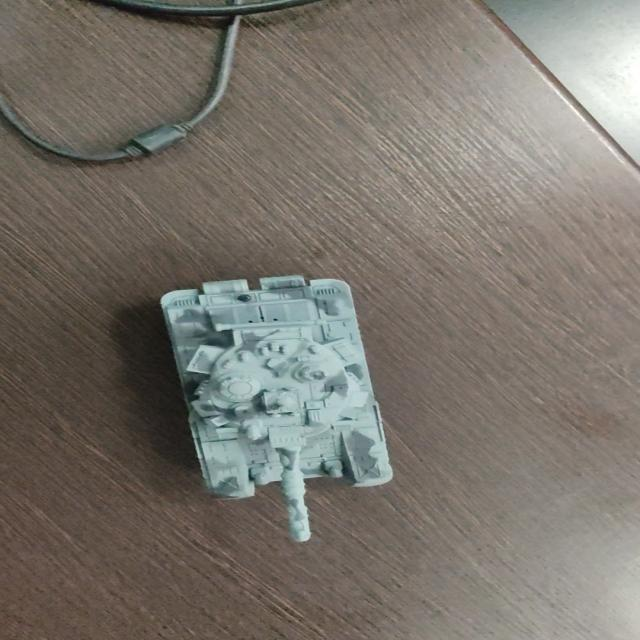tank: (158, 275, 396, 545)
